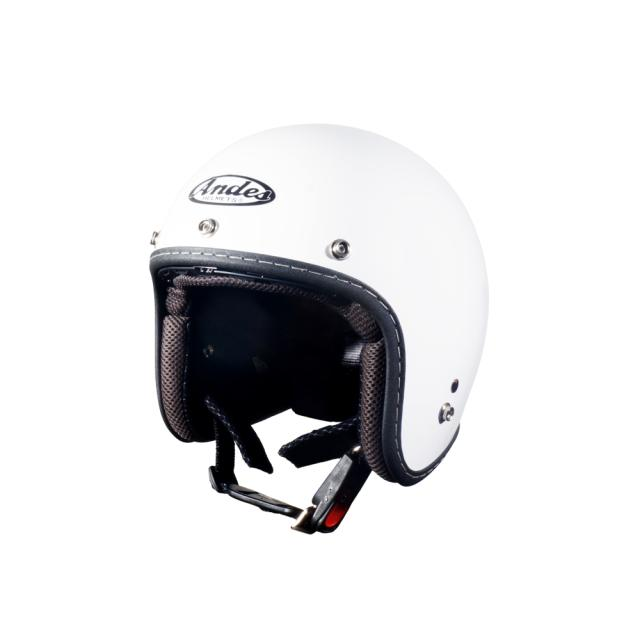Helmet: (143, 118, 494, 537)
